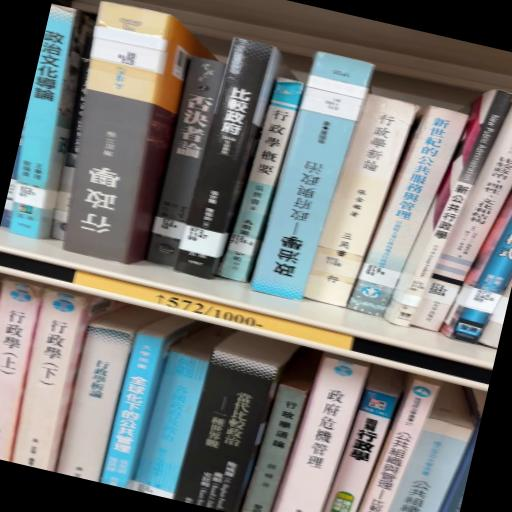book: (175, 39, 288, 280), (349, 107, 468, 318), (305, 95, 420, 307), (412, 101, 512, 332), (10, 5, 95, 240), (219, 78, 305, 283)
reverse: (64, 3, 210, 265), (252, 53, 375, 301)
